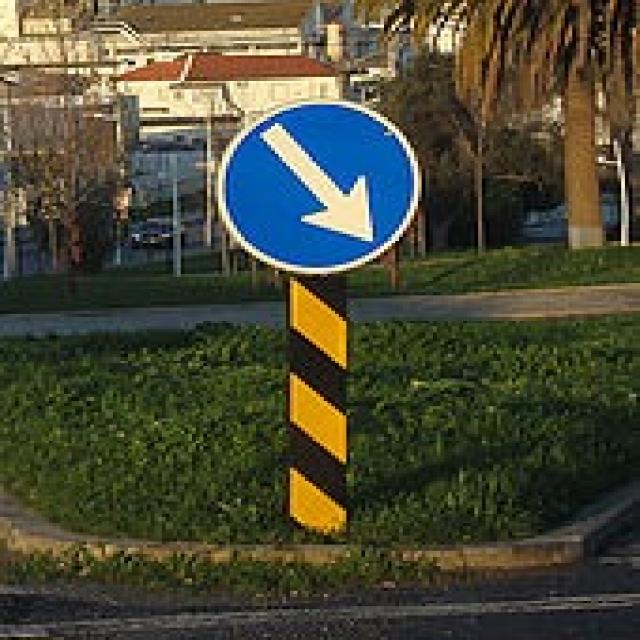compulsory_keep_right: (214, 90, 426, 284)
